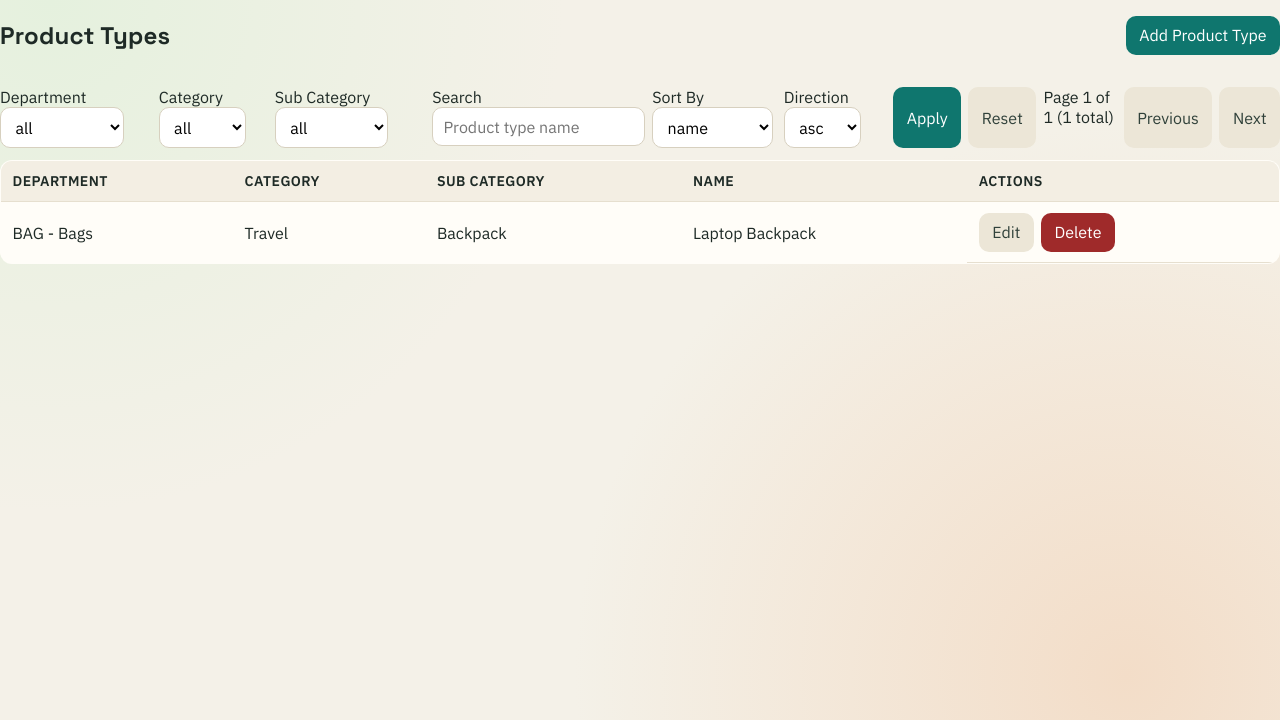
Test case: ProductTypesPage › shows submit error and stays in modal
This screenshot has width=1280, height=720.
expect the heading "Product Types" is shown: met, box 0,20 -> 170,51
Click the button "Add Product Type" at (1203,35), box 1126,16 -> 1279,55
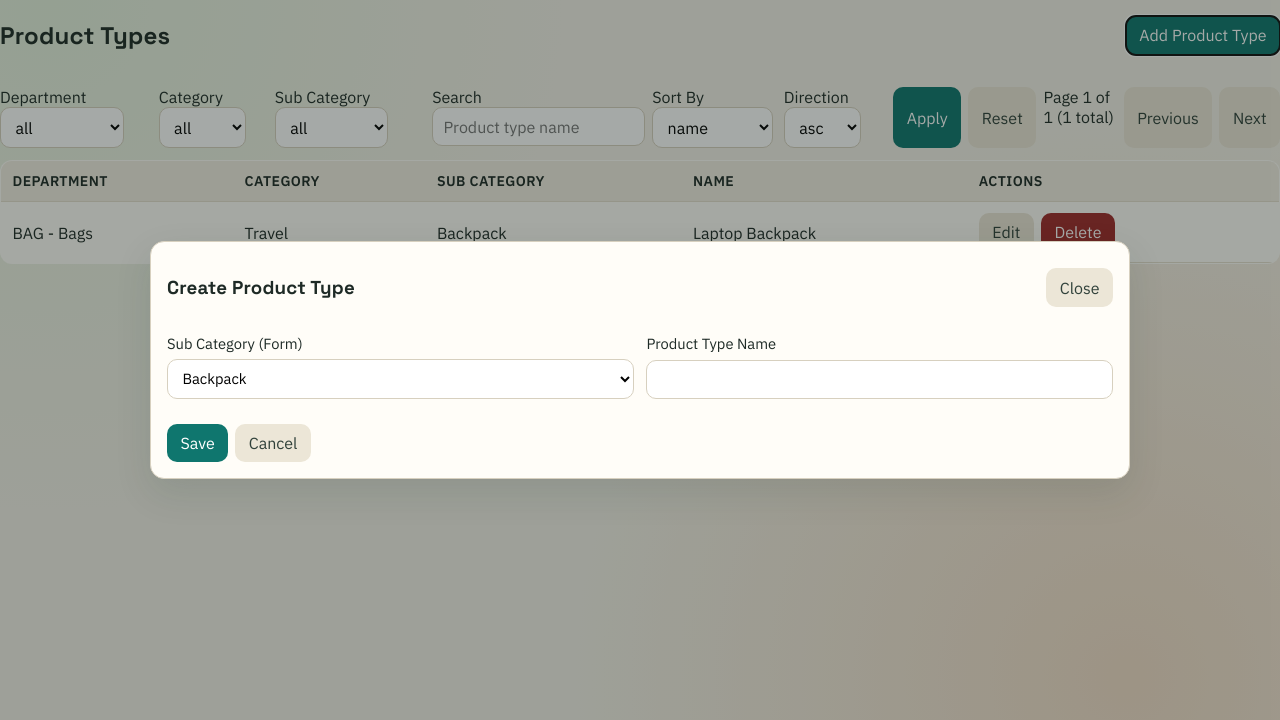
Select "Backpack" in the dropdown labelled "Sub Category (Form)" at (400,379), box 167,358 -> 634,399
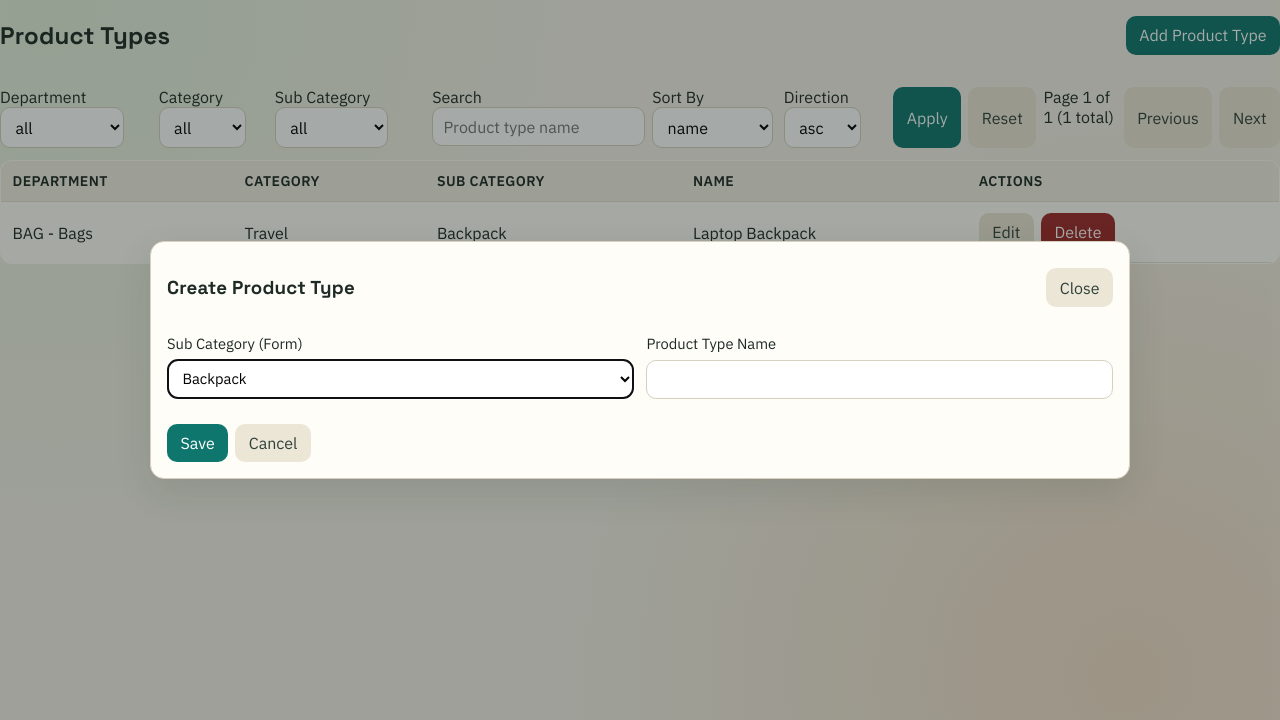
Type "Travel Backpack" into the field labelled "Product Type Name" at (880,379), box 646,360 -> 1113,399
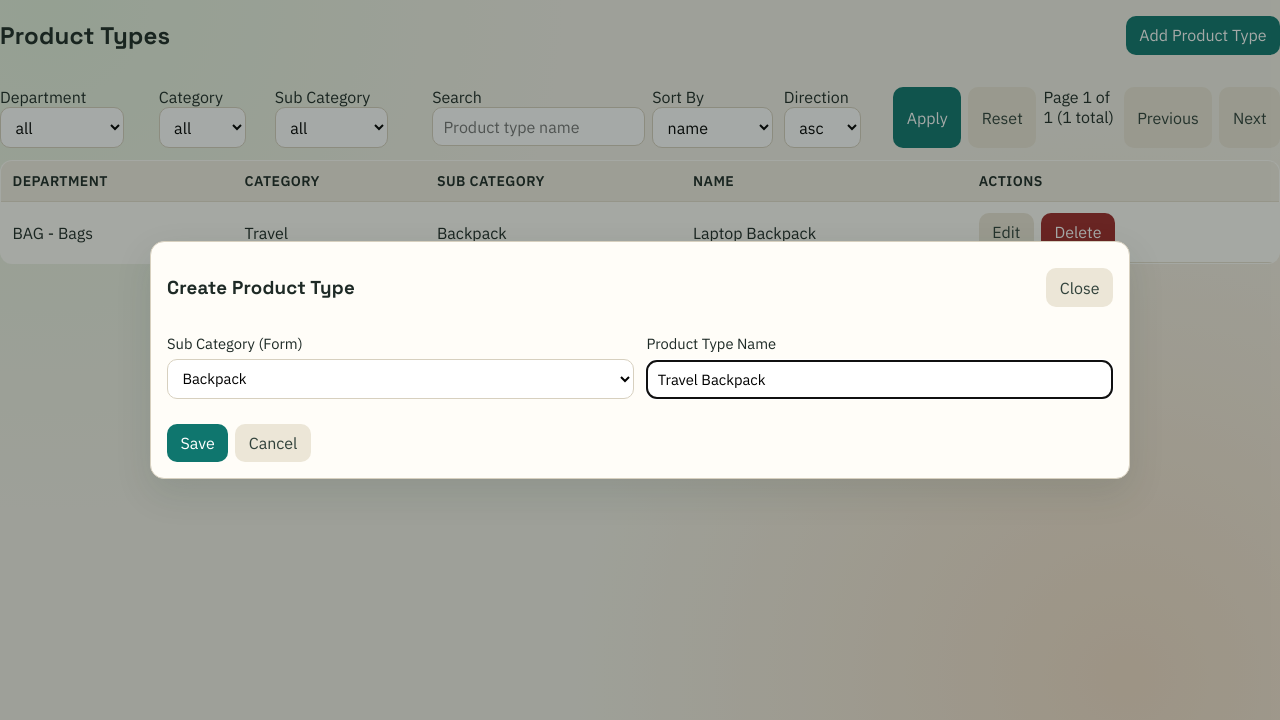
Click the button "Save" at (198,443), box 167,424 -> 228,462
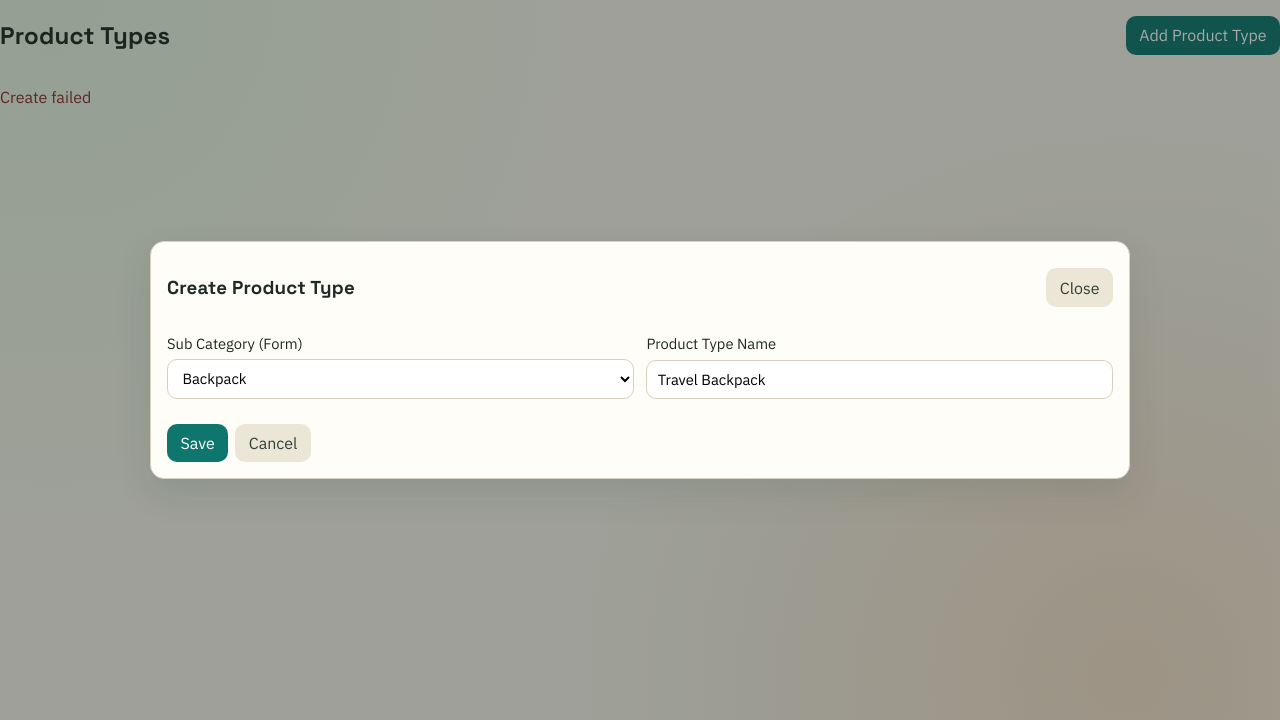
expect the heading "Create Product Type" is shown: met, box 167,276 -> 355,299
expect the text "Create failed" is shown: met, box 0,87 -> 91,107
